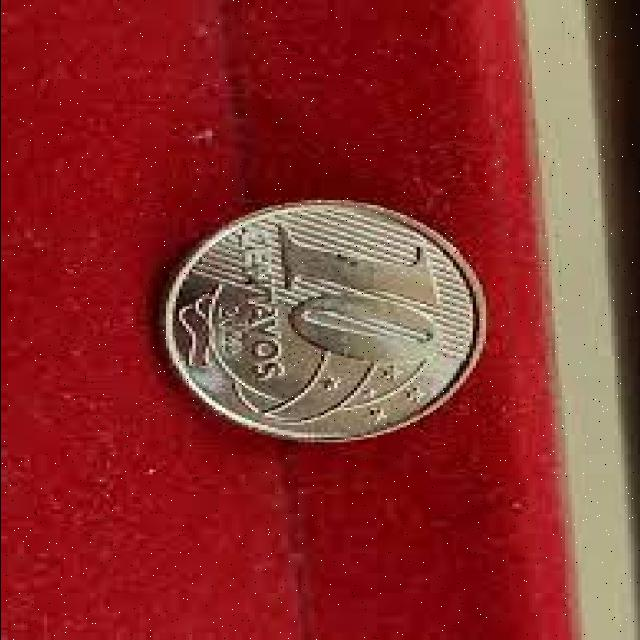10 cent: (163, 199, 489, 441)
